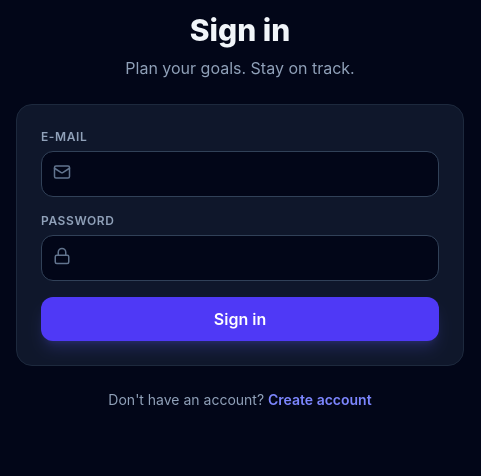
Test: AuthPage › shows a friendly message, not server text, on failure
Type "me@example.com" into the field labelled "E-mail" at (240, 174), box [41,151,439,197]
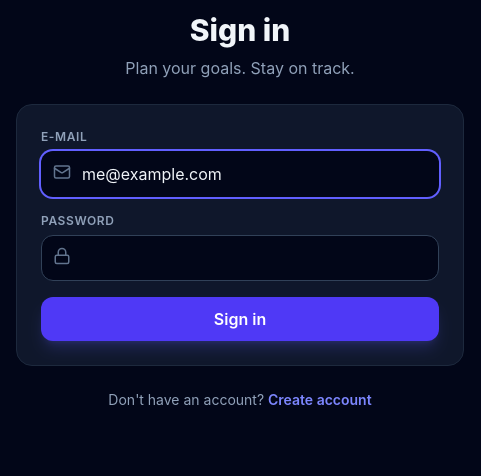
Type "whatever-123" into the password field labelled "Password" at (240, 258), box [41,235,439,281]
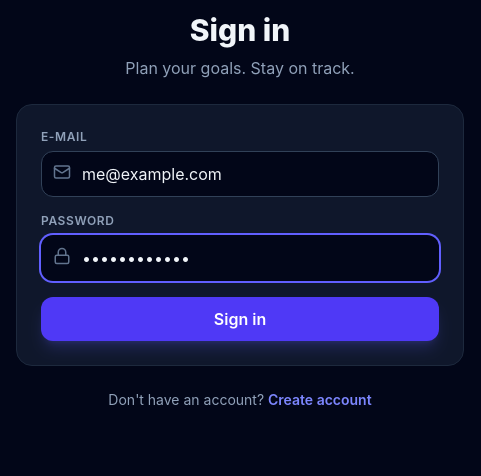
Click the button "Sign in" at (240, 319), box [41,297,439,341]
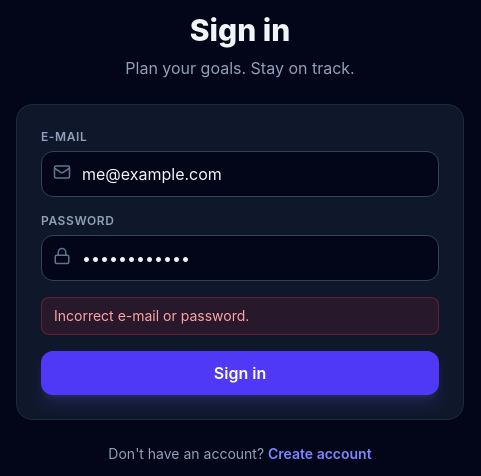
Result: the message reads "Incorrect e-mail or password." at [54,307,249,324]
